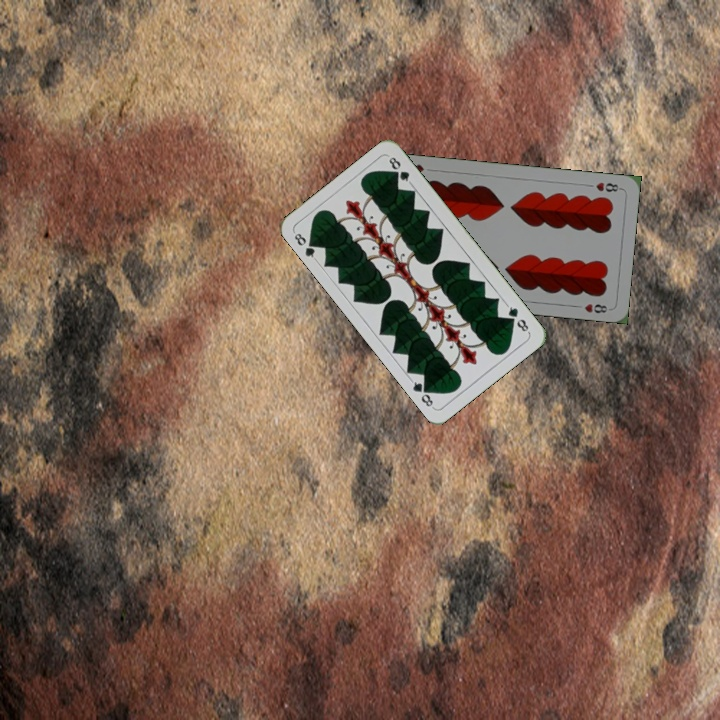G8: (502, 301, 532, 336), (290, 229, 320, 263)
H8: (592, 178, 624, 194)
